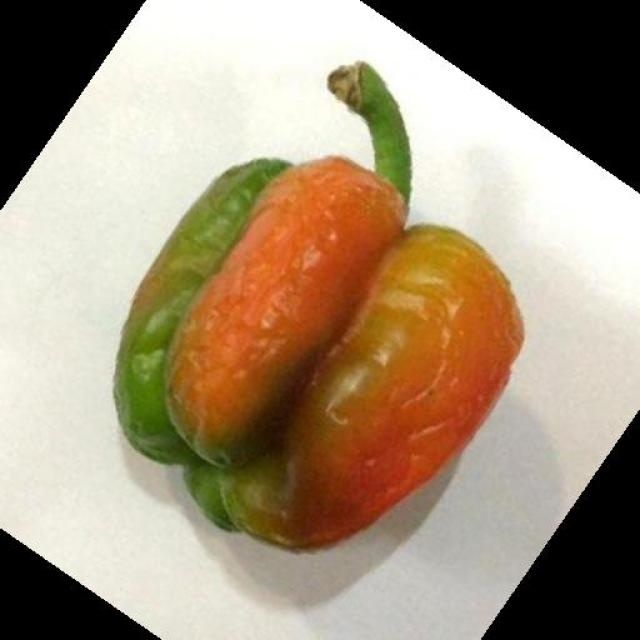Stale_Capsicum: (138, 72, 512, 543)
